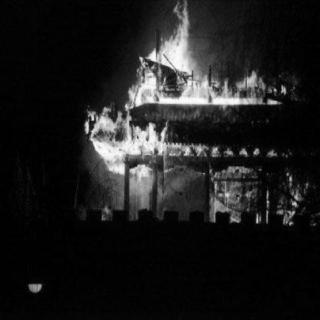Fire: (79, 5, 305, 219)
